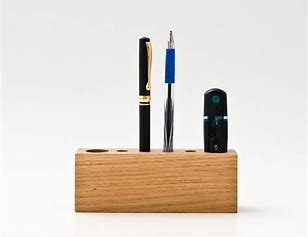pen: (137, 36, 154, 153), (163, 30, 176, 153)
